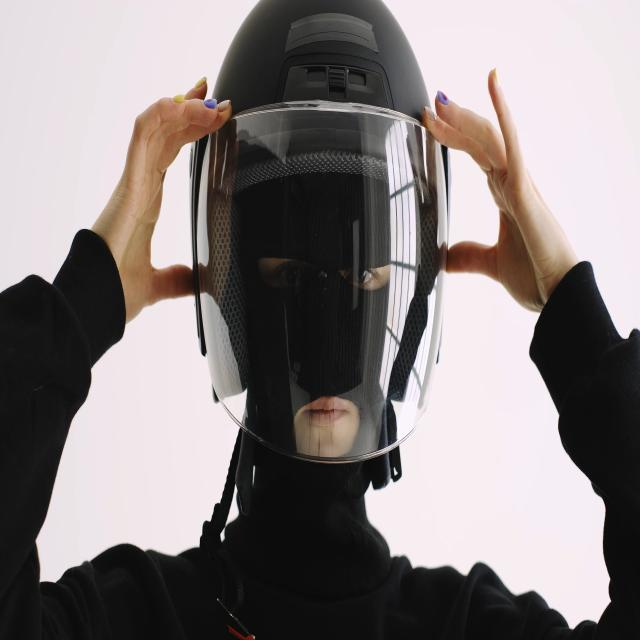Helmet_Wearer: (189, 0, 461, 616)
Person: (2, 3, 640, 636)
